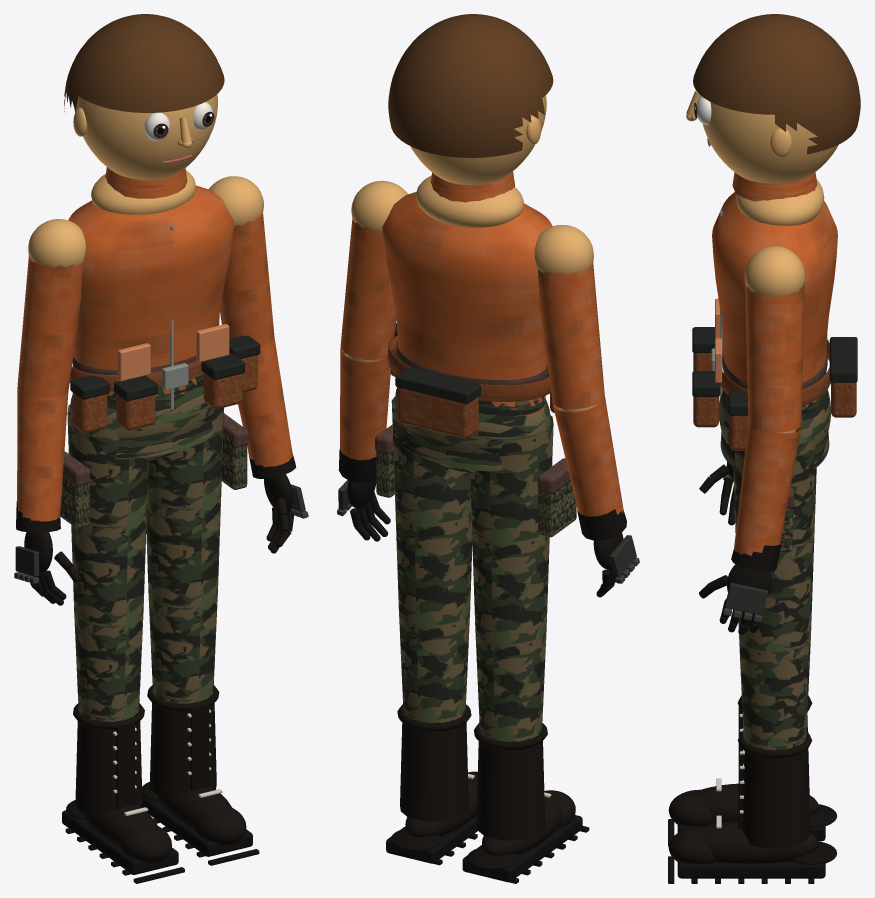
Rendered from detenu-par-defaut.glb.
3 views of the same model, side by side, from view 1: azimuth 30°, elevation 25°; view 2: azimuth 150°, elevation 25°; view 3: azimuth 270°, elevation 25° (orthographic). The views are drawn at different scales.
Size of the model in its own units: 0.6344 by 1.77 by 0.3715.
Materials: 28 (5 with a texture image).
